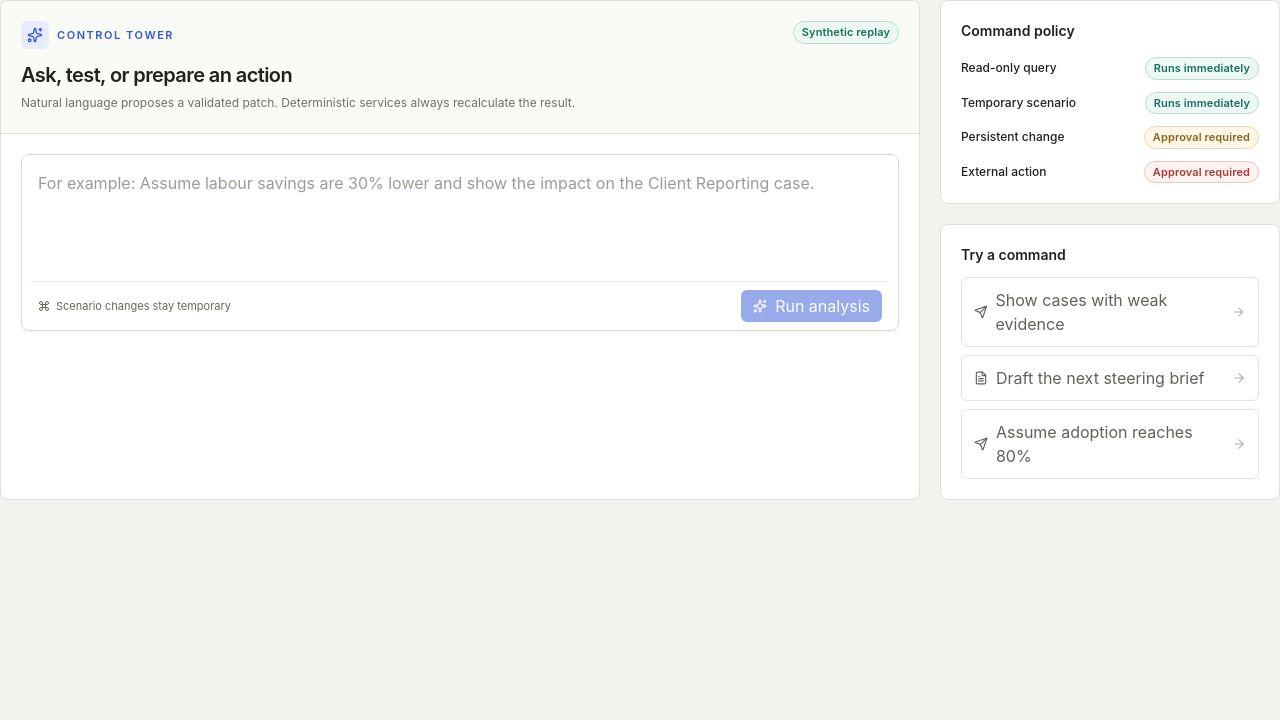
ControlTower › previews deterministic scenario changes without mutating the base case
Step 1. Type "Assume labour savings are 30% lower" into the text box named "Ask the Control Tower" → (460, 219), box [30, 163, 890, 275]
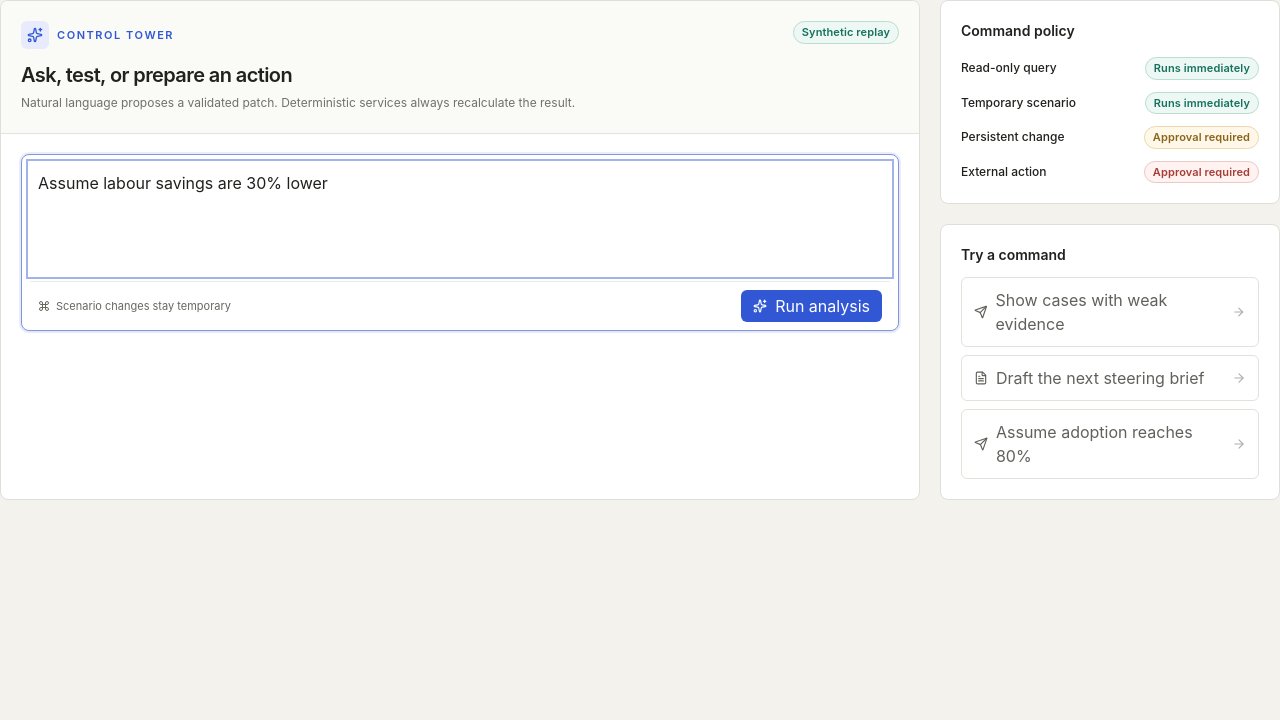
Step 2. Click the button "Run analysis" → (812, 306), box [741, 290, 882, 322]
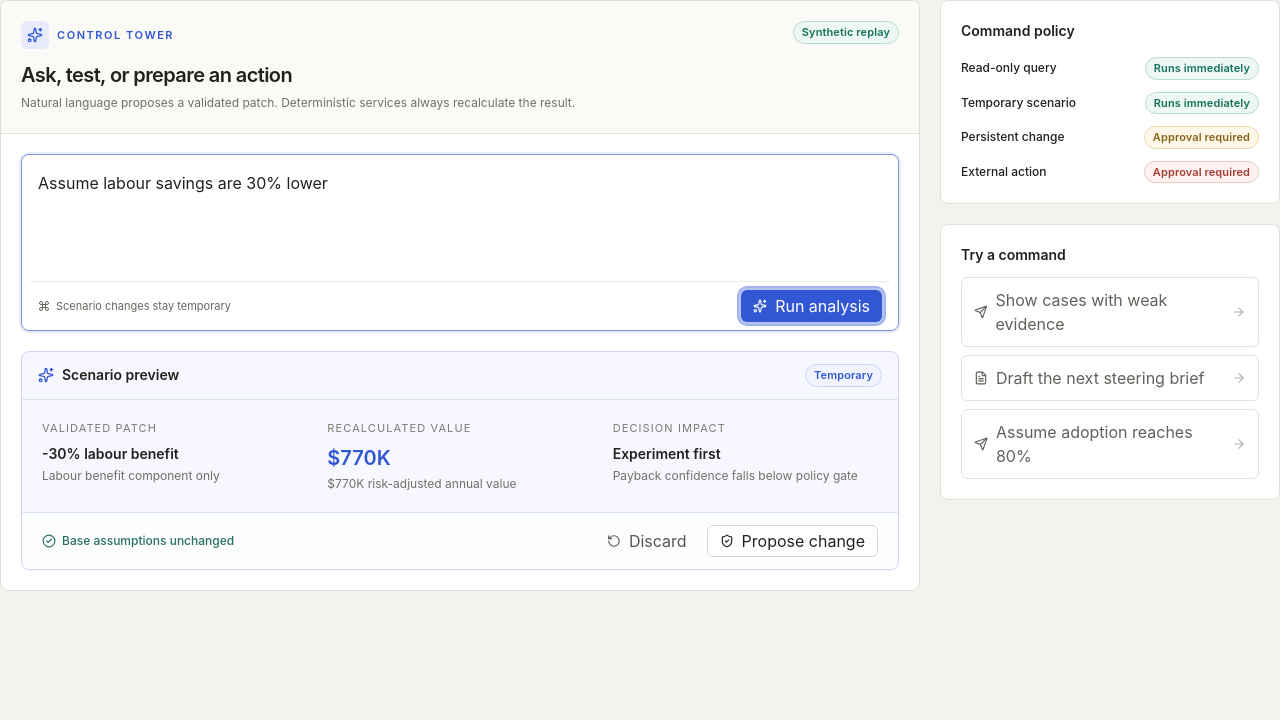
Check: the heading "Scenario preview" is shown, box [62, 365, 179, 385]
Check: the text "$770K risk-adjusted annual value" is shown, box [327, 476, 516, 491]
Check: the text "Base assumptions unchanged" is shown, box [42, 533, 234, 549]
